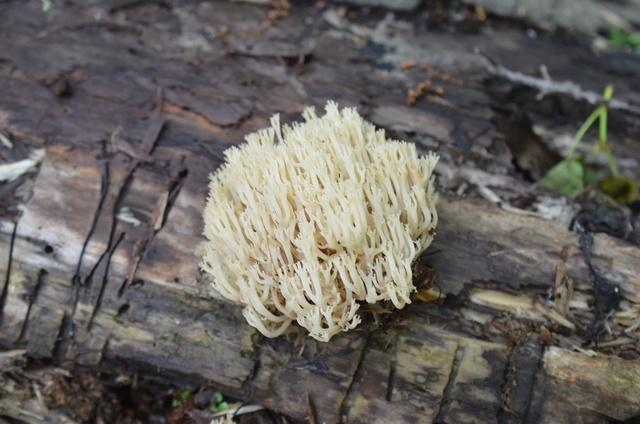Edible Mushroom: (195, 98, 442, 343)
